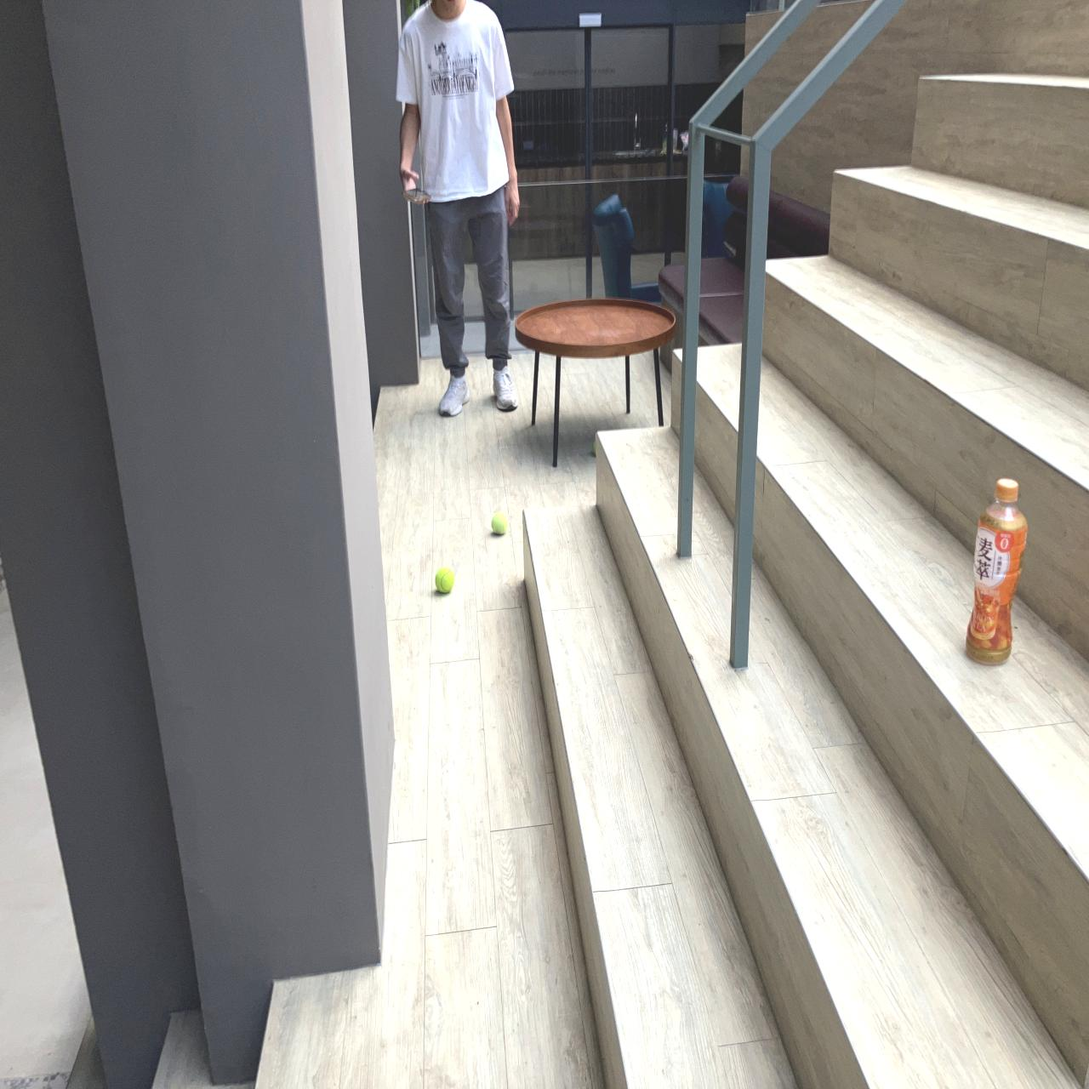person: (397, 0, 519, 415)
plastic-bottle: (966, 479, 1027, 664)
tennisball: (436, 567, 454, 593), (491, 512, 509, 534)
